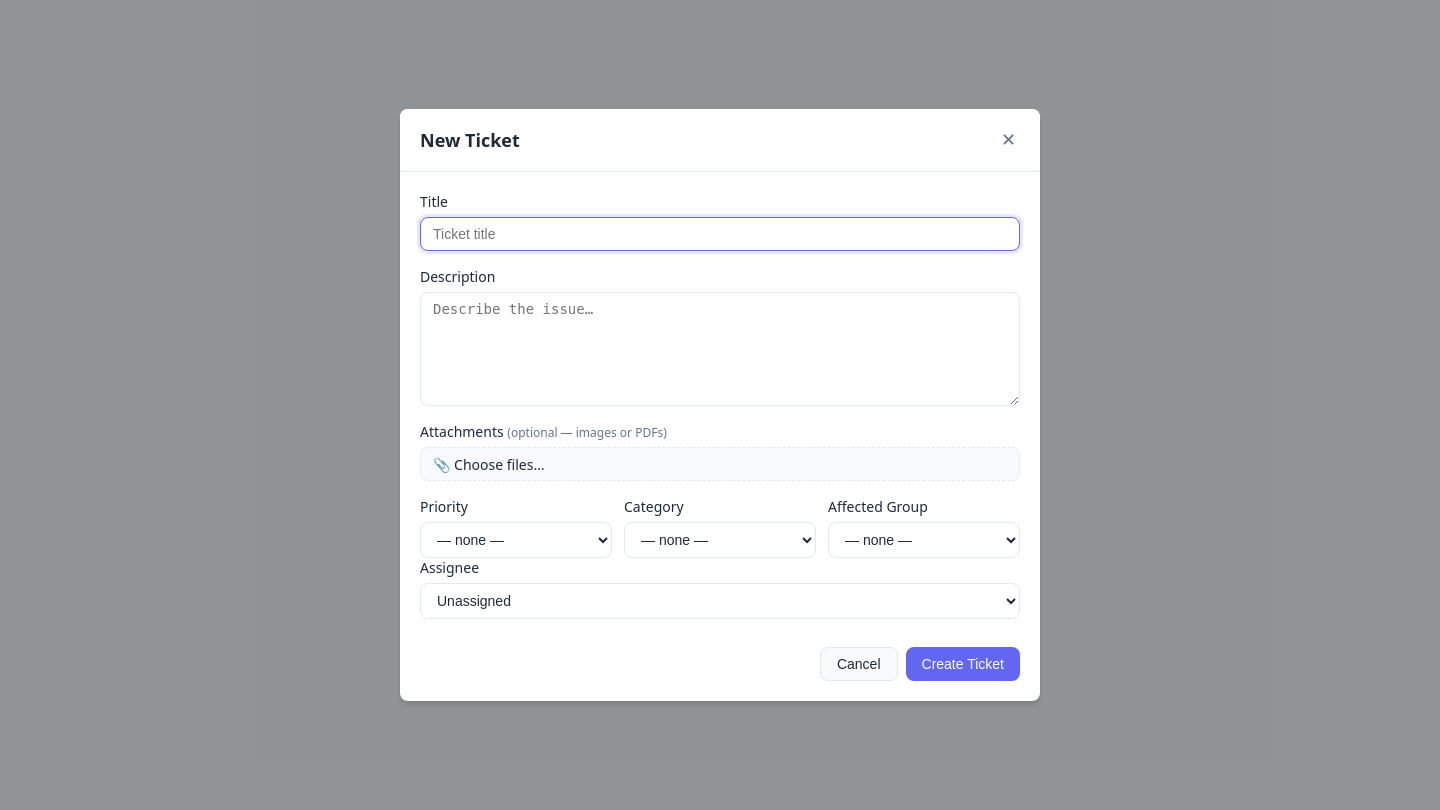
Scenario: CreateTicketModal › shows validation errors when submitted empty
Click the button "Create Ticket": (963, 664) [906,647,1020,681]
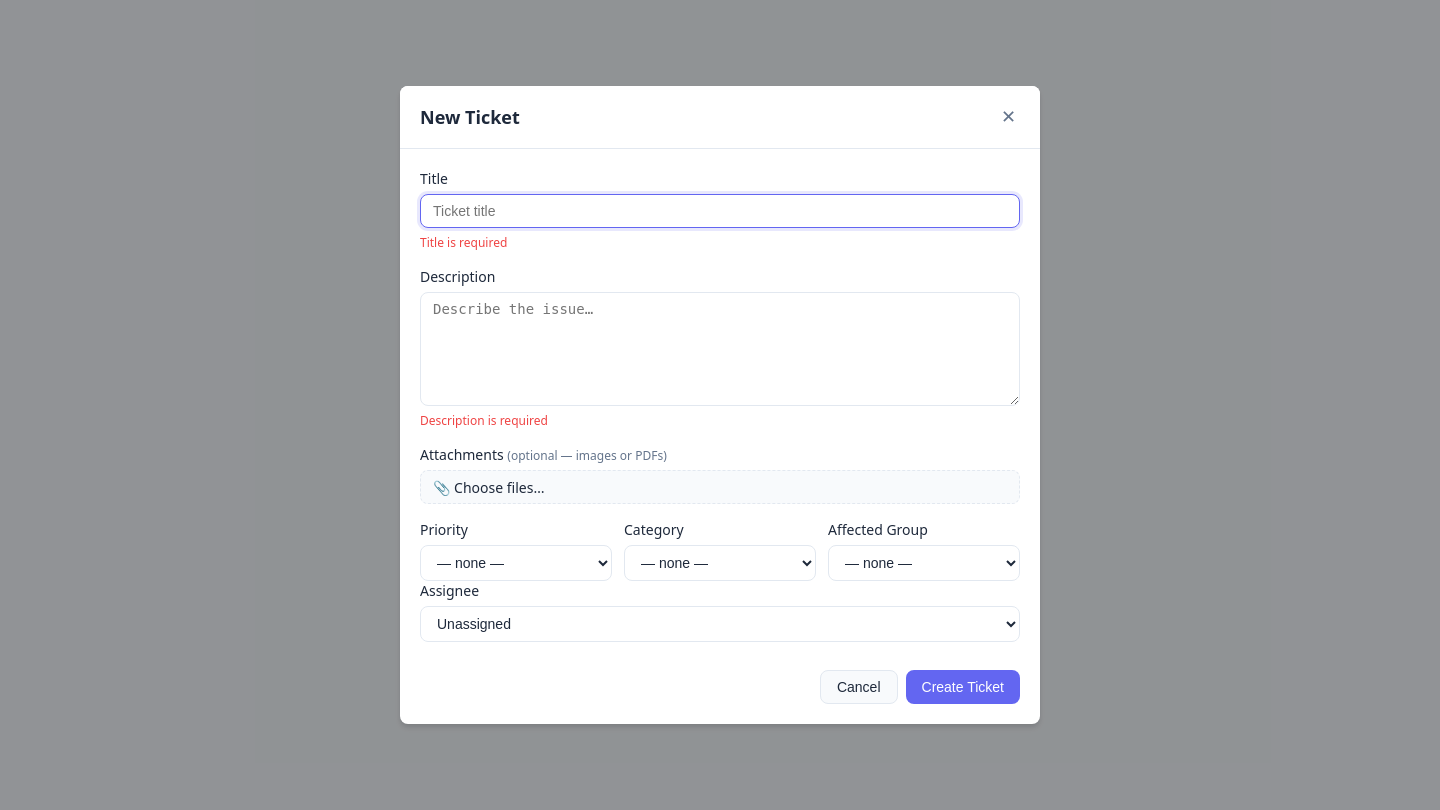
expect the text "Title is required" is shown: met, box [420,234,507,251]
